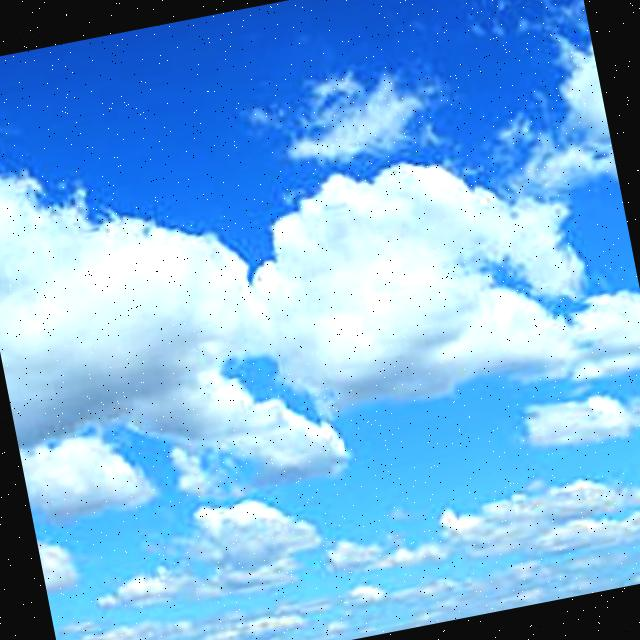Cu: (1, 12, 640, 539)
